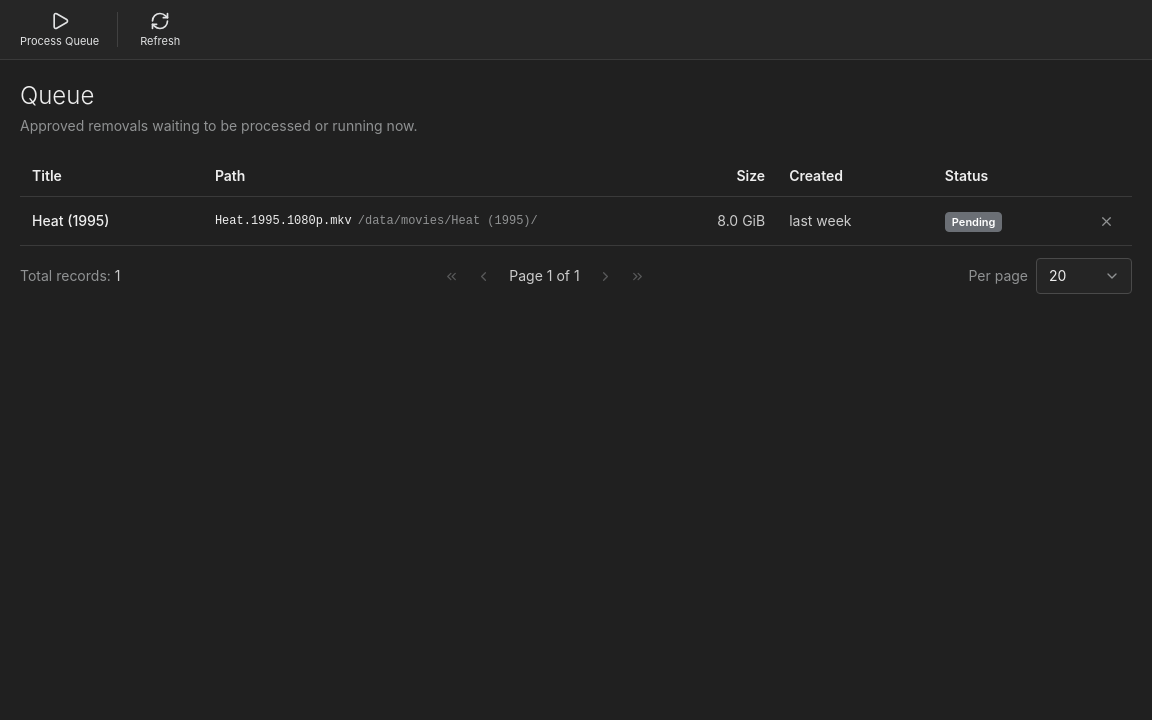
Test: <QueuePage> › keeps the action when the confirmation is dismissed
What coordinates should you click on to do the following:
click the button named "Cancel removal of Heat (1995)"
I would click on:
 (1106, 221)
Its box is [1092,207,1120,235].
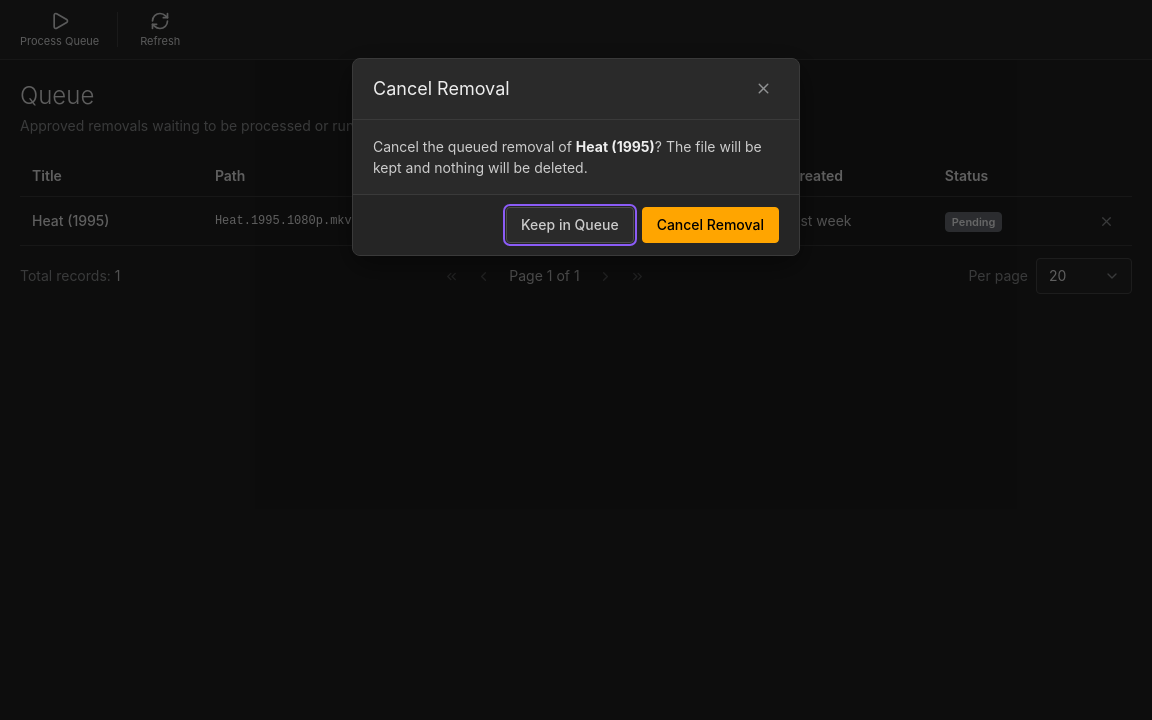
What coordinates should you click on to do the following:
click the button "Keep in Queue"
I would click on:
 (570, 225)
Its box is [506,207,634,243].
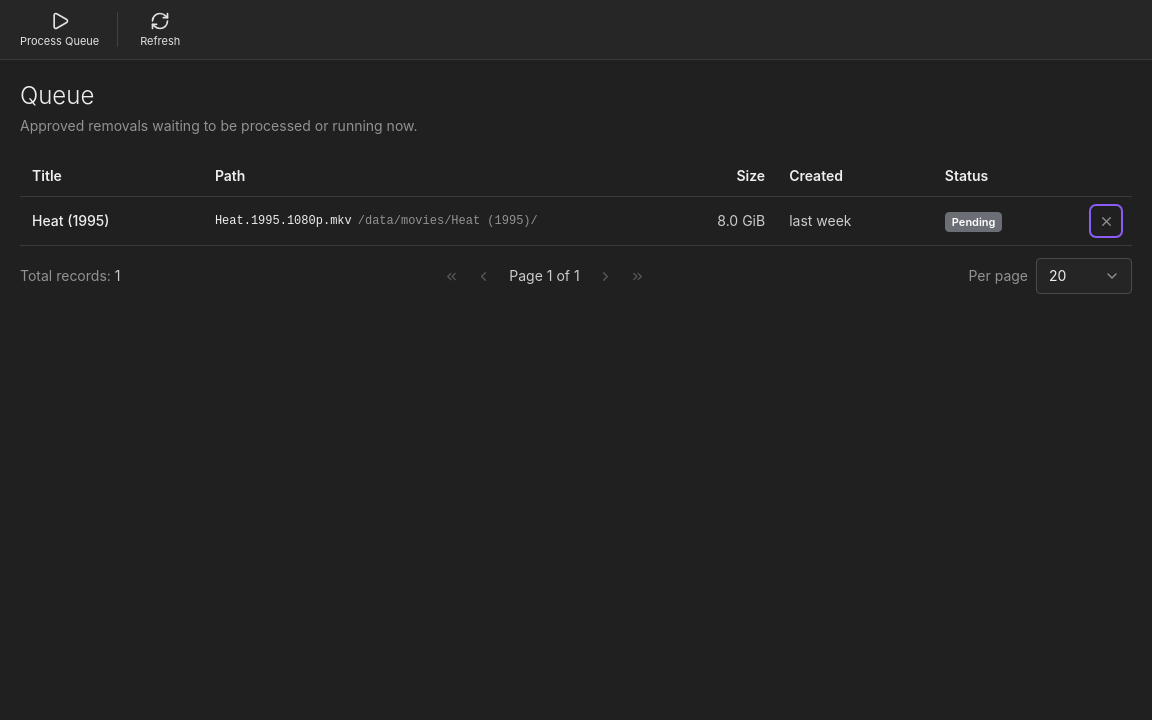
Check: the link "Heat (1995)" is shown, box [32,212,110,229]
Check: the dialog is gone
